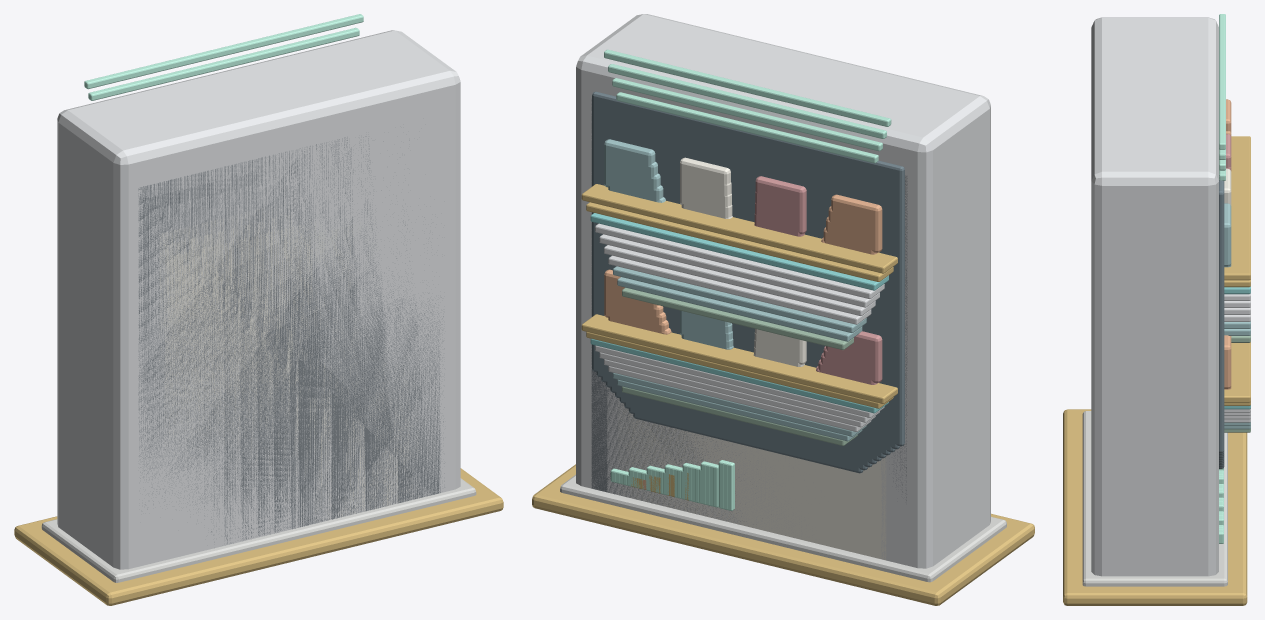
Rendered from Gear13.fbx.
The picture shows the model from 3 angles, left to right: view 1: azimuth 30°, elevation 25°; view 2: azimuth 150°, elevation 25°; view 3: azimuth 270°, elevation 25°; orthographic projection. The views are drawn at different scales.
Visible parts, largest first — view 1: Gear13_V10_Platinum, Gear13_V7_Graphite, Gear13_V8_Graphite, Gear13_V10_Gold, Gear13_V3_Linen, Gear13_V2_Ivory, Gear13_V9_Gold, Gear13_V10_Chrome, Gear13_V9_Platinum, Gear13_V10_Glow, Gear13_V9_Glow, Gear13_V9_Chrome (+5 smaller); view 2: Gear13_V10_Platinum, Gear13_V10_Glass, Gear13_V10_Gold, Gear13_V3_Linen, Gear13_V9_Gold, Gear13_V5_Platinum, Gear13_V9_Platinum, Gear13_V8_Glass, Gear13_V8_Graphite, Gear13_V8_Aqua, Gear13_V7_Platinum, Gear13_V6_Platinum (+29 smaller); view 3: Gear13_V10_Platinum, Gear13_V10_Gold, Gear13_V9_Gold, Gear13_V10_Chrome, Gear13_V10_Glass, Gear13_V10_Glow, Gear13_V5_Chrome, Gear13_V10_Apricot, Gear13_V9_Chrome, Gear13_V10_Blue, Gear13_V6_Chrome, Gear13_V4_Chrome (+9 smaller).
Part boxes in pixels (x1,y1,x2,y2): Gear13_V10_Platinum: (57, 30, 460, 569); Gear13_V7_Graphite: (143, 161, 440, 543); Gear13_V8_Graphite: (138, 136, 444, 527); Gear13_V10_Gold: (14, 468, 503, 605); Gear13_V3_Linen: (164, 215, 419, 525); Gear13_V2_Ivory: (169, 215, 377, 485); Gear13_V9_Gold: (109, 501, 496, 596); Gear13_V10_Chrome: (41, 478, 476, 582); Gear13_V9_Platinum: (133, 109, 450, 550); Gear13_V10_Glow: (84, 14, 363, 89); Gear13_V9_Glow: (88, 27, 359, 100); Gear13_V9_Chrome: (50, 492, 469, 580); Gear13_V10_Platinum: (576, 14, 990, 568); Gear13_V10_Glass: (592, 91, 904, 446); Gear13_V10_Gold: (532, 184, 1034, 605); Gear13_V3_Linen: (618, 398, 880, 558); Gear13_V9_Gold: (539, 202, 1025, 601); Gear13_V5_Platinum: (604, 245, 891, 548); Gear13_V9_Platinum: (586, 86, 912, 566); Gear13_V8_Glass: (601, 123, 895, 452); Gear13_V8_Graphite: (591, 99, 907, 521); Gear13_V8_Aqua: (590, 213, 888, 413); Gear13_V7_Platinum: (595, 223, 884, 417); Gear13_V6_Platinum: (599, 234, 896, 487); Gear13_V10_Platinum: (1091, 17, 1218, 576); Gear13_V10_Gold: (1063, 136, 1250, 605); Gear13_V9_Gold: (1063, 279, 1250, 592); Gear13_V10_Chrome: (1082, 411, 1227, 586); Gear13_V10_Glass: (1219, 180, 1224, 453); Gear13_V10_Glow: (1219, 14, 1225, 543); Gear13_V5_Chrome: (1082, 426, 1227, 569); Gear13_V10_Apricot: (1224, 99, 1231, 388); Gear13_V9_Chrome: (1083, 414, 1226, 576); Gear13_V10_Blue: (1224, 203, 1231, 266); Gear13_V6_Chrome: (1083, 421, 1227, 571); Gear13_V4_Chrome: (1083, 426, 1227, 566).
Size of the model in its own units: 125 by 136 by 53.
